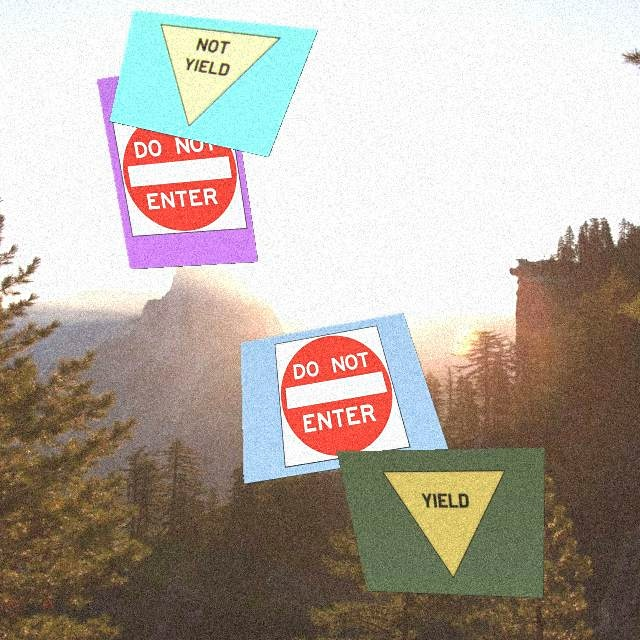DO_NOT_ENTER: (264, 322, 411, 472), (107, 102, 255, 242)
NOT_YIELD: (138, 14, 281, 142)
YIELD: (382, 470, 522, 580)
